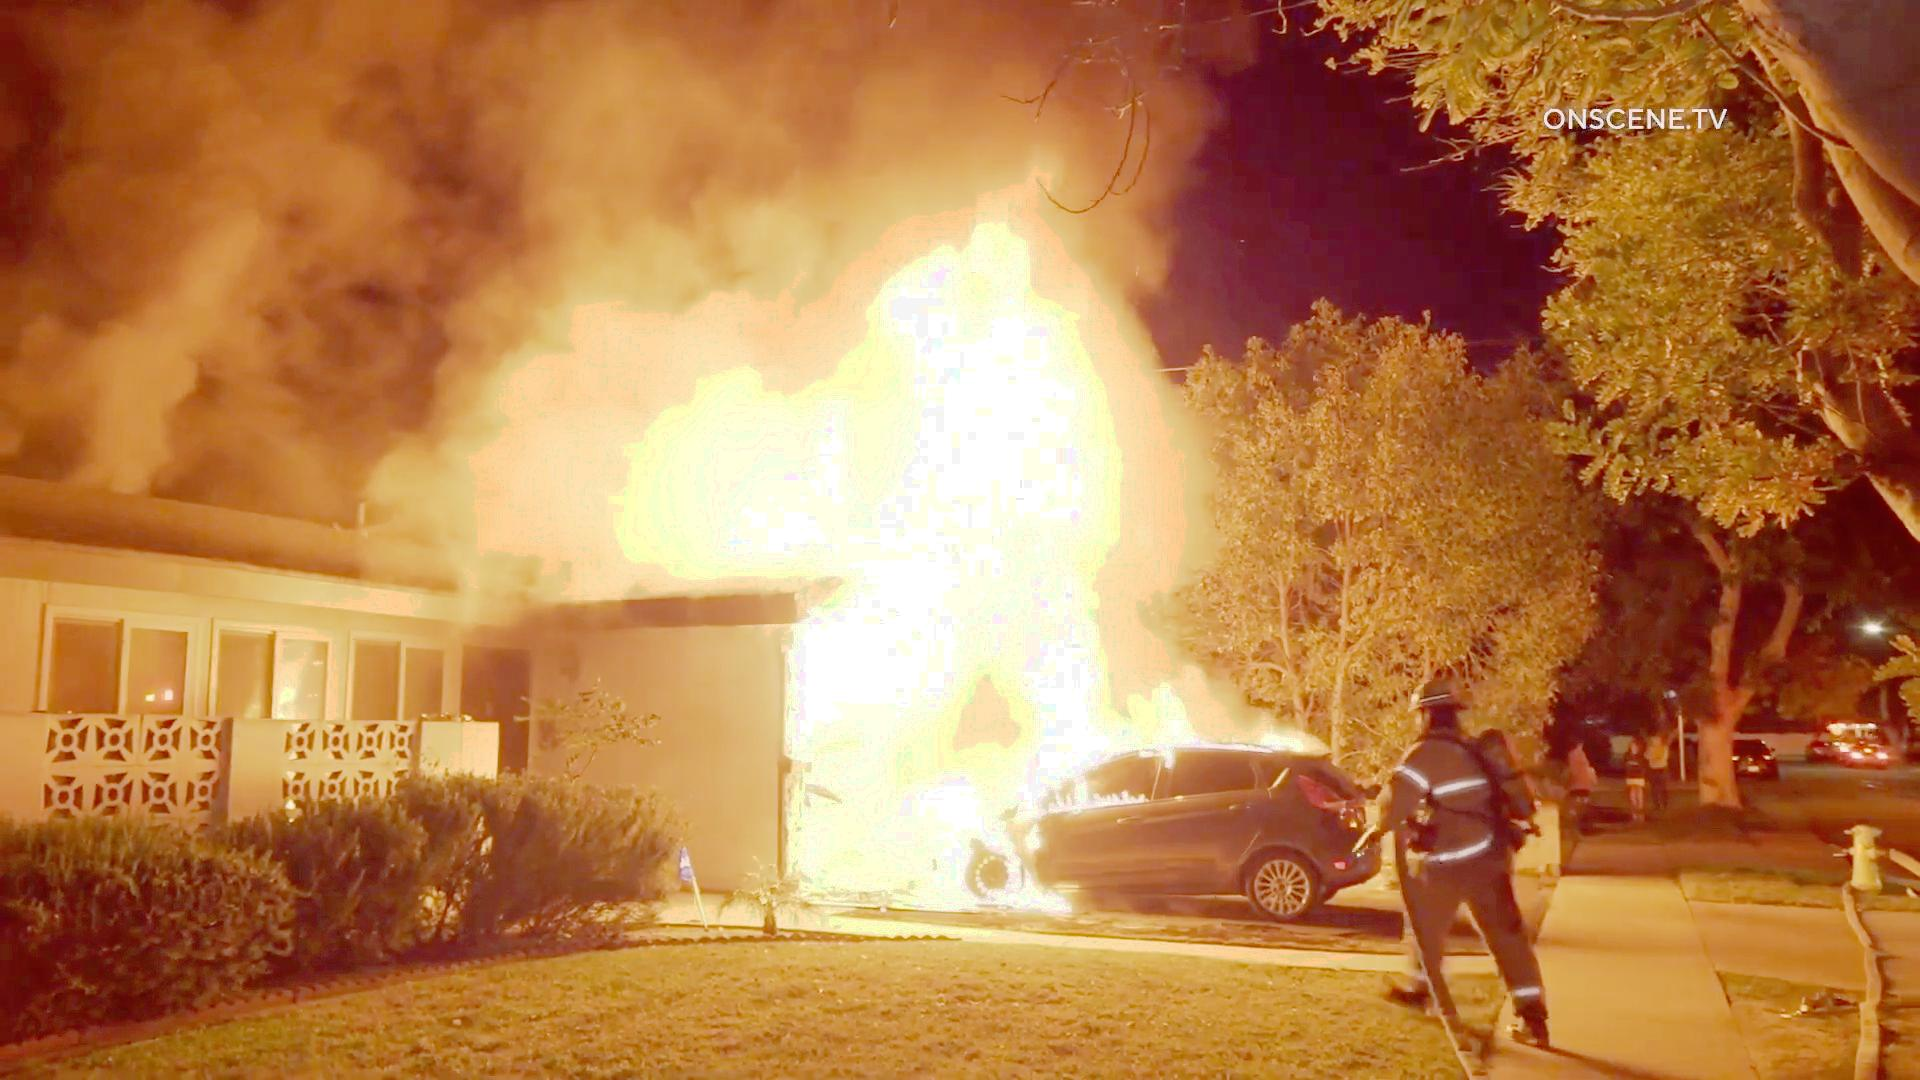fire: (886, 203, 1163, 744), (646, 348, 1160, 583), (823, 596, 1055, 906)
smoke: (3, 3, 633, 505), (0, 0, 873, 334), (0, 0, 1166, 190)
